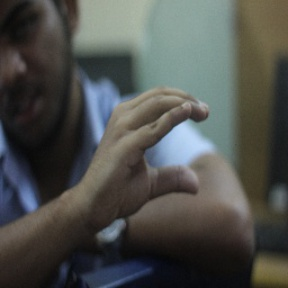C: (103, 83, 214, 208)
